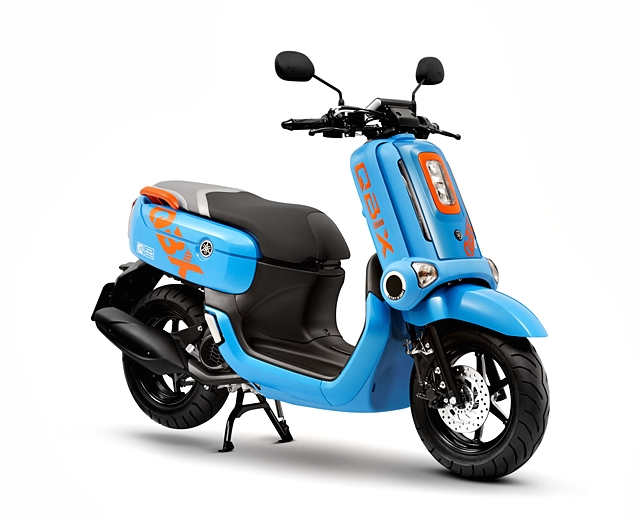motorcycle: (90, 51, 552, 480)
